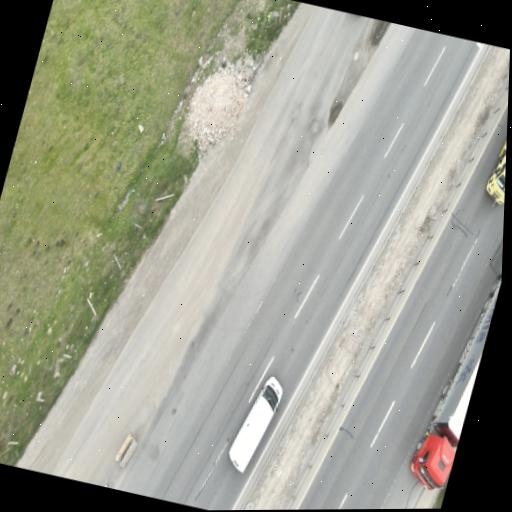truck: (410, 266, 501, 489), (228, 377, 281, 472), (486, 140, 506, 203), (340, 0, 369, 16)
